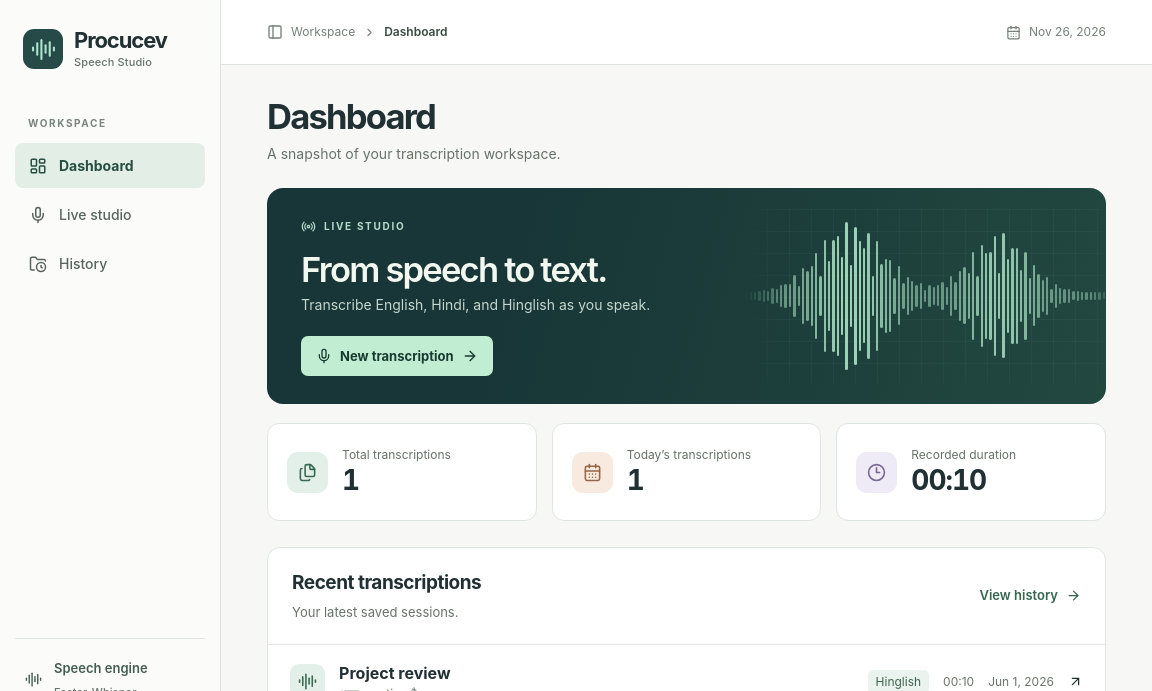
Scenario: speech studio › loads dashboard metrics and navigates to the studio
Expected: the text "Project review" is shown, [339, 663, 451, 683]
Expected: the text "Total transcriptions" is shown, [342, 446, 451, 464]
Click the link "New transcription". click: (397,356)
box: [301, 336, 493, 376]
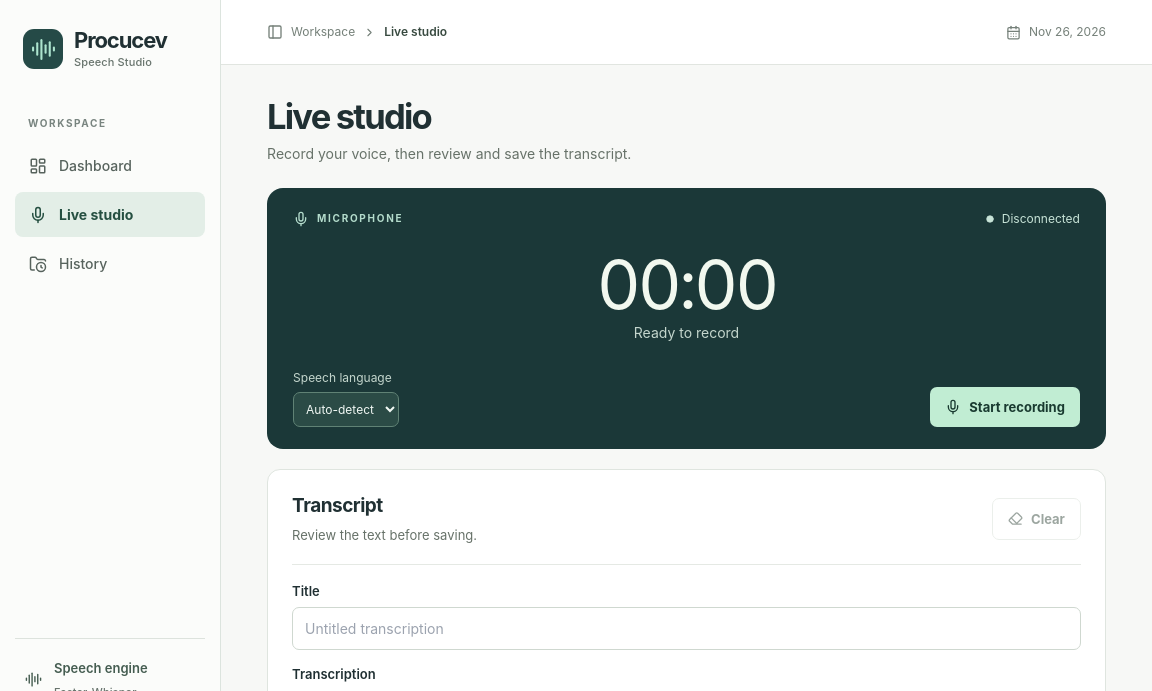
Now the button "Start recording" is shown, box [930, 386, 1080, 426]
